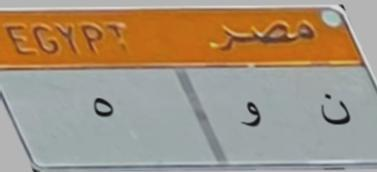5: (88, 93, 119, 123)
noon: (316, 85, 354, 139)
waw: (236, 99, 265, 138)
